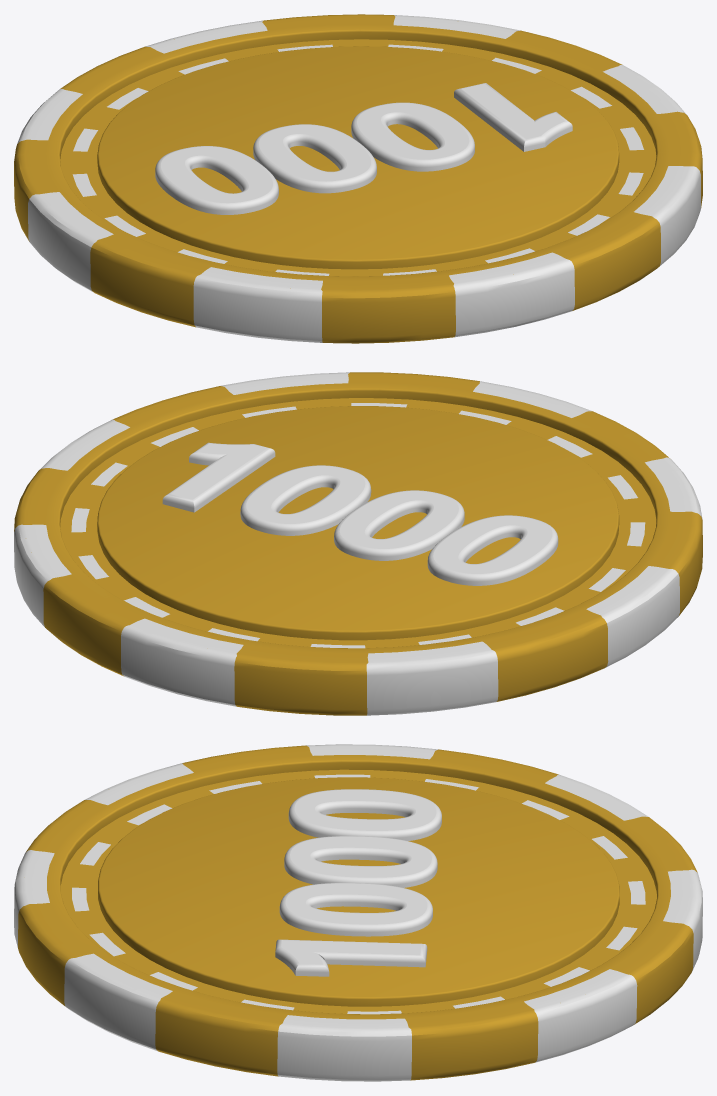
3 views of the same model, one above another, from view 1: azimuth 30°, elevation 25°; view 2: azimuth 150°, elevation 25°; view 3: azimuth 270°, elevation 25° (orthographic).
Parts seen in each view (by area): view 1: Mesh_2008_1, Mesh_2008_2, Mesh_2008; view 2: Mesh_2008_1, Mesh_2008_2, Mesh_2008; view 3: Mesh_2008_1, Mesh_2008_2, Mesh_2008.
Part boxes in pixels (<box>): Mesh_2008_1: <box>14,14,702,343</box>; Mesh_2008_2: <box>17,15,700,342</box>; Mesh_2008: <box>155,83,572,214</box>; Mesh_2008_1: <box>14,372,702,715</box>; Mesh_2008_2: <box>14,372,702,715</box>; Mesh_2008: <box>162,442,558,585</box>; Mesh_2008_1: <box>18,745,697,1080</box>; Mesh_2008_2: <box>14,744,702,1081</box>; Mesh_2008: <box>275,789,441,976</box>.
Size of the model in its own units: 0.0802 by 0.00936 by 0.0802.
